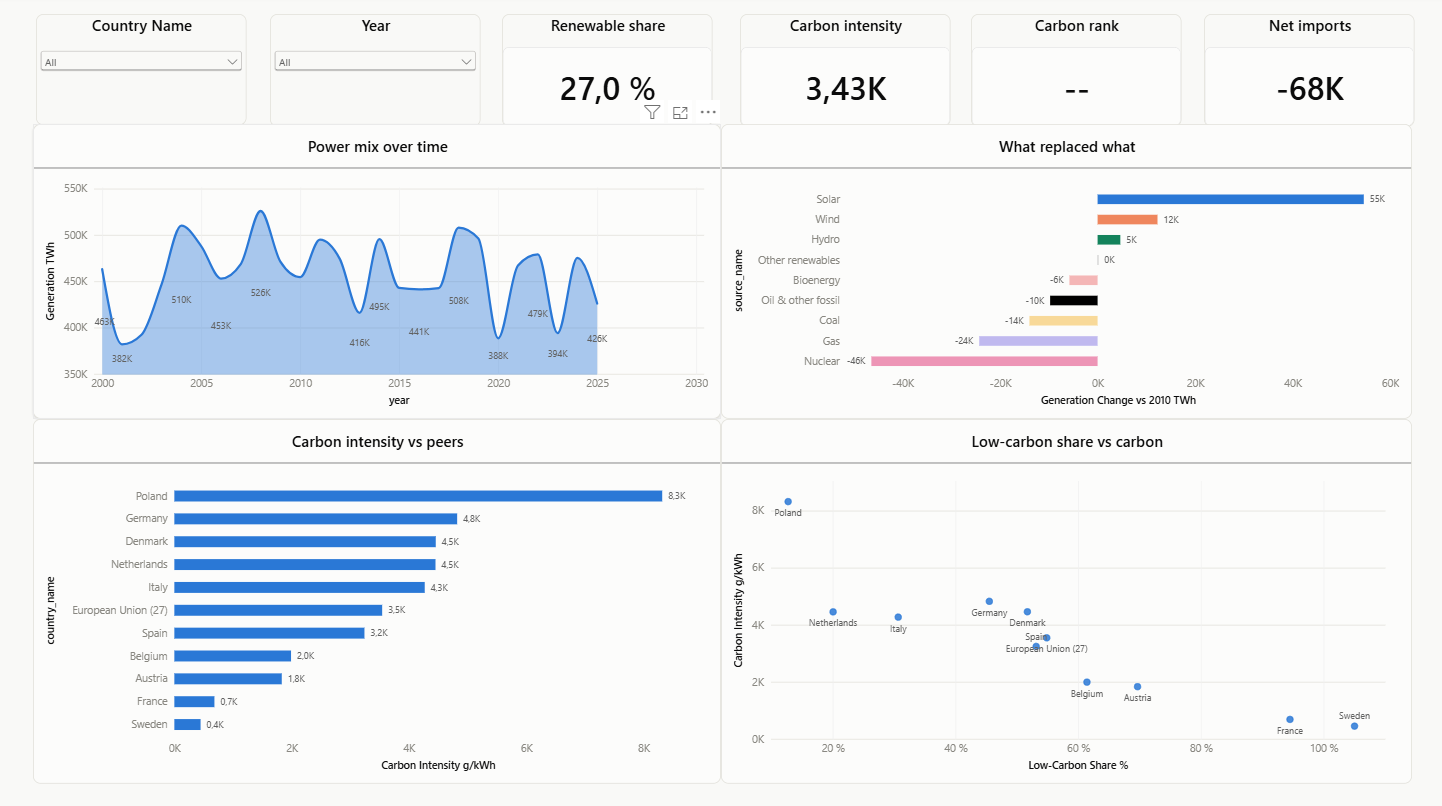

What the dashboard file says about the page in this screenshot:
{"tool":"powerbi","page":{"name":"Page 1","canvas":[1920,1080],"ordinal":0},"visuals":[{"type":"slicer","title":"Country Name","fields":{"Values":["dim_country.country_name"]},"box":[48.6,23.9,280.1,148.1],"z":0},{"type":"slicer","title":"Year","fields":{"Values":["dim_year.year"]},"box":[360.9,23.9,280,150],"z":2},{"type":"cardVisual","title":"Renewable share","fields":{"Data":["_Measures.Renewable Share %"]},"box":[669.6,23.9,280,150],"z":4},{"type":"cardVisual","title":"Carbon intensity ","fields":{"Data":["_Measures.Carbon Intensity g/kWh"]},"box":[985.4,23.9,280,150],"z":5},{"type":"cardVisual","title":"Carbon rank ","fields":{"Data":["_Measures.Carbon Rank"]},"box":[1292.3,23.9,280,150],"z":6},{"type":"cardVisual","title":"Net imports ","fields":{"Data":["_Measures.Net Imports TWh"]},"box":[1602.8,23.9,280,150],"z":7},{"type":"stackedAreaChart","title":"Power mix over time ","fields":{"Category":["dim_year.year"],"Y":["_Measures.Generation TWh"]},"box":[45.2,170.2,915.1,392.4],"z":8},{"type":"clusteredBarChart","title":"What replaced what ","fields":{"Category":["dim_energy_source.source_name"],"Y":["_Measures.Generation Change vs 2010 TWh"]},"box":[960.3,170.2,919.1,392.4],"z":9},{"type":"clusteredBarChart","title":"Carbon intensity vs peers ","fields":{"Category":["dim_country.country_name"],"Y":["_Measures.Carbon Intensity g/kWh"]},"box":[45.2,562.6,915.1,485.5],"z":10},{"type":"scatterChart","title":"Low-carbon share vs carbon ","fields":{"Category":["dim_country.country_name"],"X":["_Measures.Low-Carbon Share %"],"Y":["_Measures.Carbon Intensity g/kWh"]},"box":[960.3,562.6,919.1,485.5],"z":11}]}

Visuals, with their boxes in screenshot pixels (x1, y1, x2, y2), scaled from the page's 1920x1080 canvas onto the 1442x806 screenshot:
"Country Name" slicer: left=37, top=18, right=247, bottom=128
"Year" slicer: left=271, top=18, right=481, bottom=130
"Renewable share" cardVisual: left=503, top=18, right=713, bottom=130
"Carbon intensity " cardVisual: left=740, top=18, right=950, bottom=130
"Carbon rank " cardVisual: left=971, top=18, right=1181, bottom=130
"Net imports " cardVisual: left=1204, top=18, right=1414, bottom=130
"Power mix over time " stackedAreaChart: left=34, top=127, right=721, bottom=420
"What replaced what " clusteredBarChart: left=721, top=127, right=1412, bottom=420
"Carbon intensity vs peers " clusteredBarChart: left=34, top=420, right=721, bottom=782
"Low-carbon share vs carbon " scatterChart: left=721, top=420, right=1412, bottom=782
